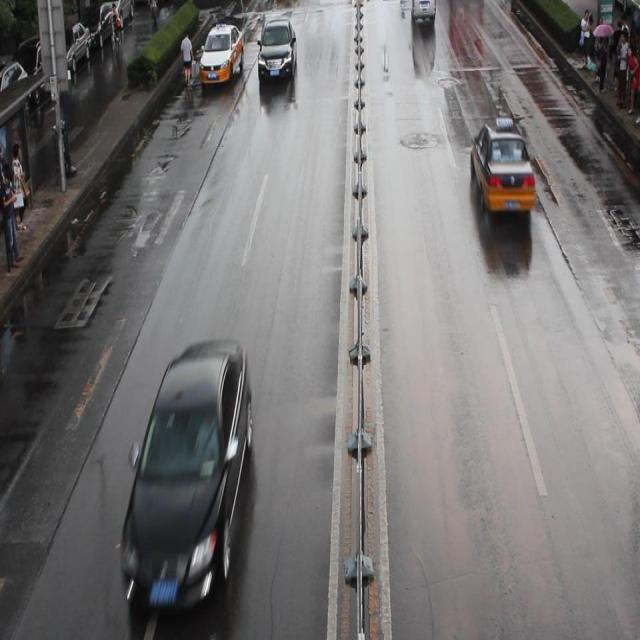car: (120, 336, 252, 610), (469, 116, 535, 213), (198, 23, 244, 86), (256, 18, 296, 82)
truck: (410, 1, 435, 20)
